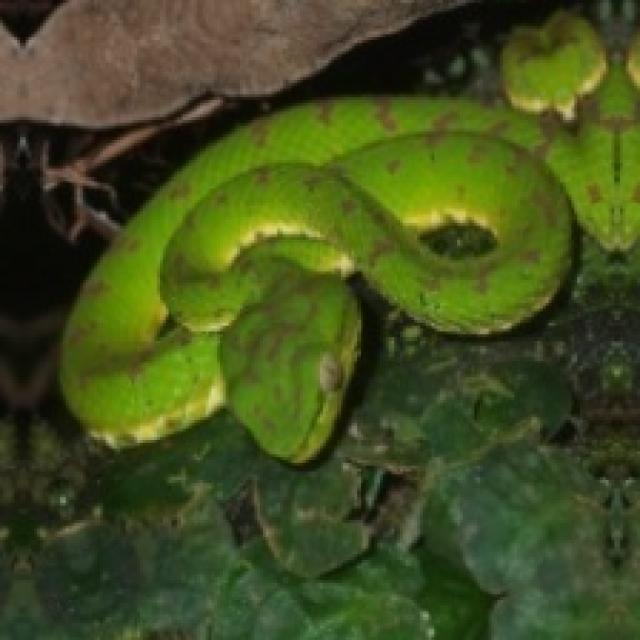philippine pitviper: (60, 14, 637, 463)
